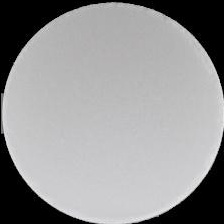66267-078: (0, 0, 224, 224)
